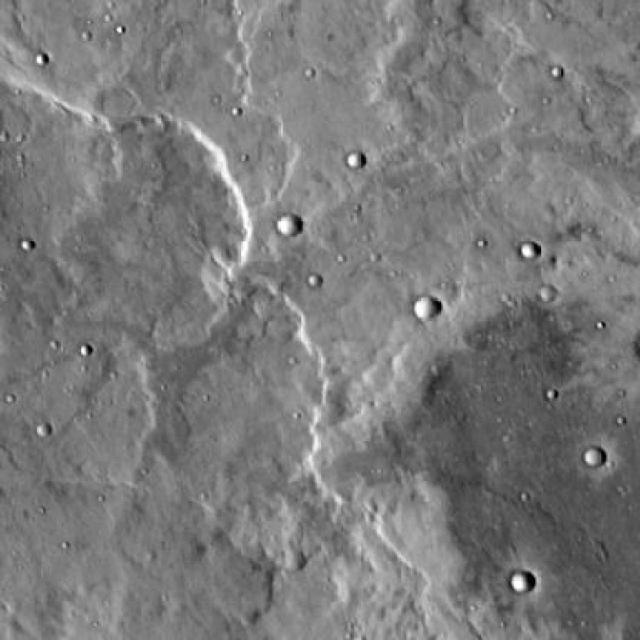crater: (320, 251, 640, 640), (415, 298, 442, 322), (278, 216, 304, 238), (511, 574, 534, 594), (582, 448, 604, 468), (522, 242, 541, 260), (345, 153, 363, 170)
